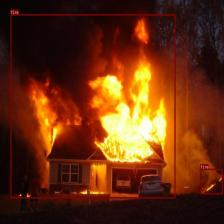fire: (10, 14, 176, 198), (200, 168, 223, 194)
